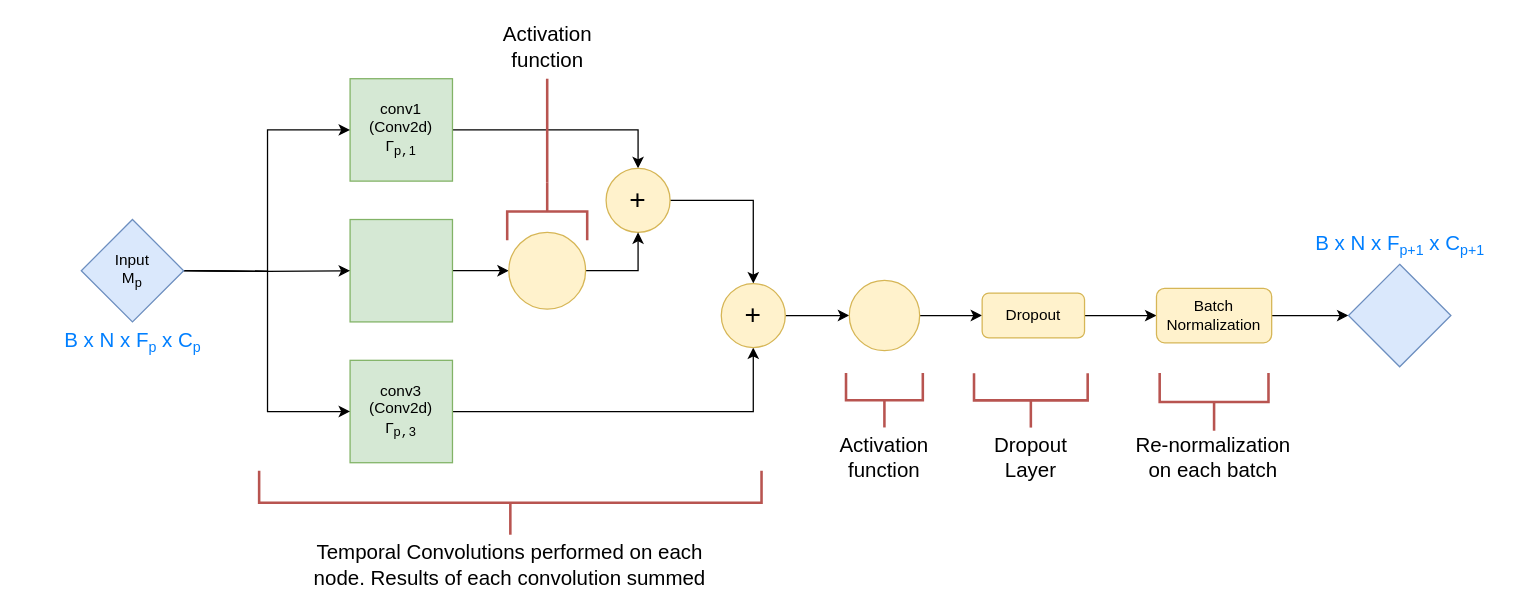
The diagram is 1532 pixels wide and 612 high, and some of its shapes have lost their labels. The shapes that lost their labels are listed below. From the top down, each one's centre as x and y in pixels, then its label:
At [400,270]: "conv2 (Conv2d) Γ p ,2".
At [547,270]: "Sigmoid".
At [884,315]: "ReLU".
At [1399,315]: "Output M p+1".
